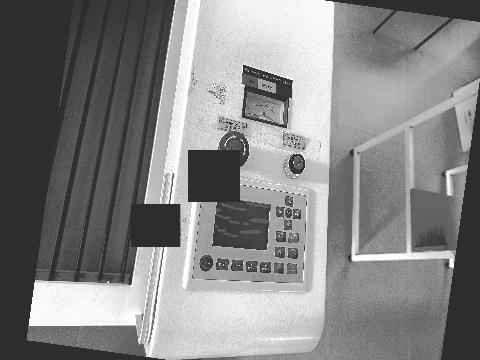Amp_Meter: (244, 86, 288, 126)
Display: (212, 201, 270, 250)
Down_button: (284, 219, 292, 230)
Emergency_Stop: (218, 131, 249, 167)
Enter_button: (289, 232, 299, 243)
Esc_button: (276, 231, 286, 242)
File_button: (273, 262, 285, 273)
Frame_button: (288, 248, 298, 259)
Left_button: (276, 207, 285, 217)
Max-Power_button: (260, 262, 271, 272)
Min-Power_button: (246, 261, 258, 272)
Origin_button: (275, 247, 285, 258)
Power_switch: (284, 154, 305, 178)
Pulse_button: (216, 258, 229, 270)
Reset_button: (199, 255, 213, 272)
Right_button: (293, 209, 301, 219)
Speed_button: (231, 260, 243, 271)
Start-Pause_button: (287, 263, 297, 274)
Up_button: (285, 196, 293, 207)
Z_U_button: (285, 208, 292, 218)
